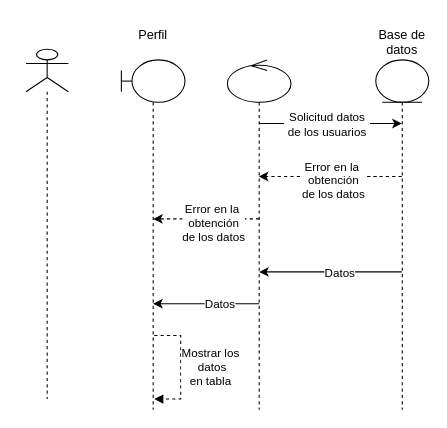
Some shapes in this 447 by 428 pixel diagram are drawn without their labels. The box of each missing label's shape, as (x1, y1, x2, y2) in pixels:
Servicio base de datos: (226, 59, 291, 410)
USUARIO: (25, 48, 68, 399)
